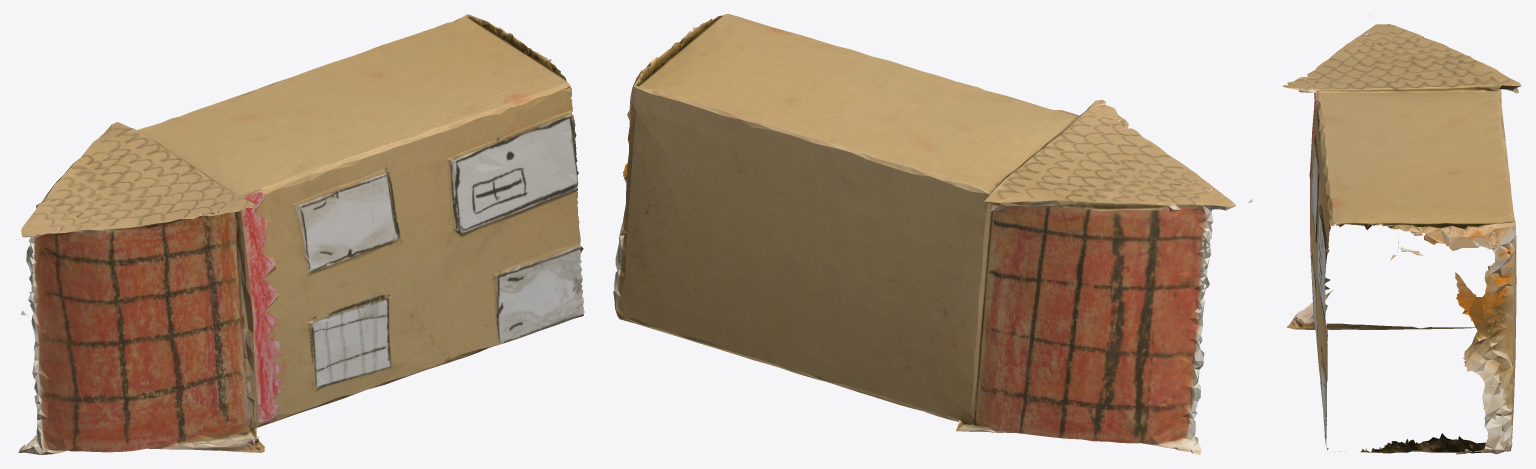
File: m3_5K_1024tex.glb
The picture shows the model from 3 angles, left to right: view 1: azimuth 30°, elevation 25°; view 2: azimuth 150°, elevation 25°; view 3: azimuth 270°, elevation 25°; orthographic projection. The views are drawn at different scales.
Size of the model in its own units: 10.54 by 5 by 4.08.
1 material, 1 textured.
